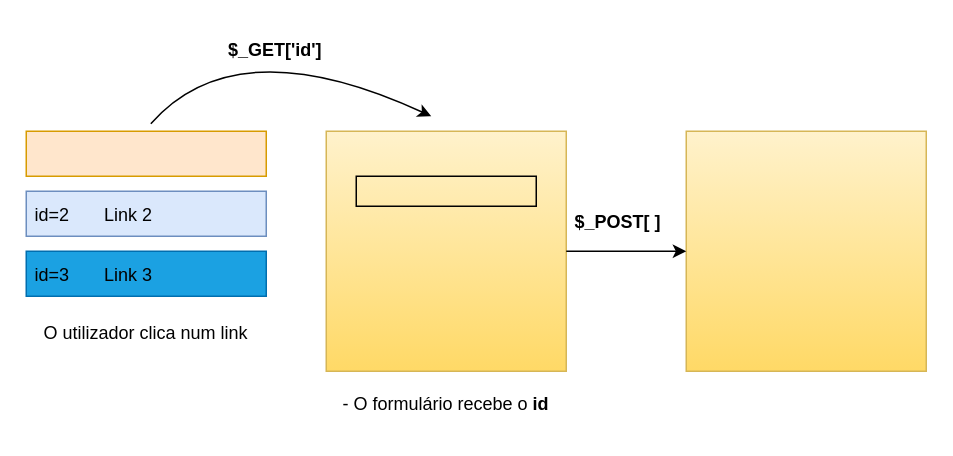
This 953x456 diagram has some shape labels left out. Each missing label, with the centre of its shape:
"id=1 Link 1" goes at pixel 145 153.
"Registo eliminado" goes at pixel 805 250.
